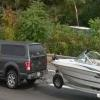Boat: (49, 44, 100, 97)
